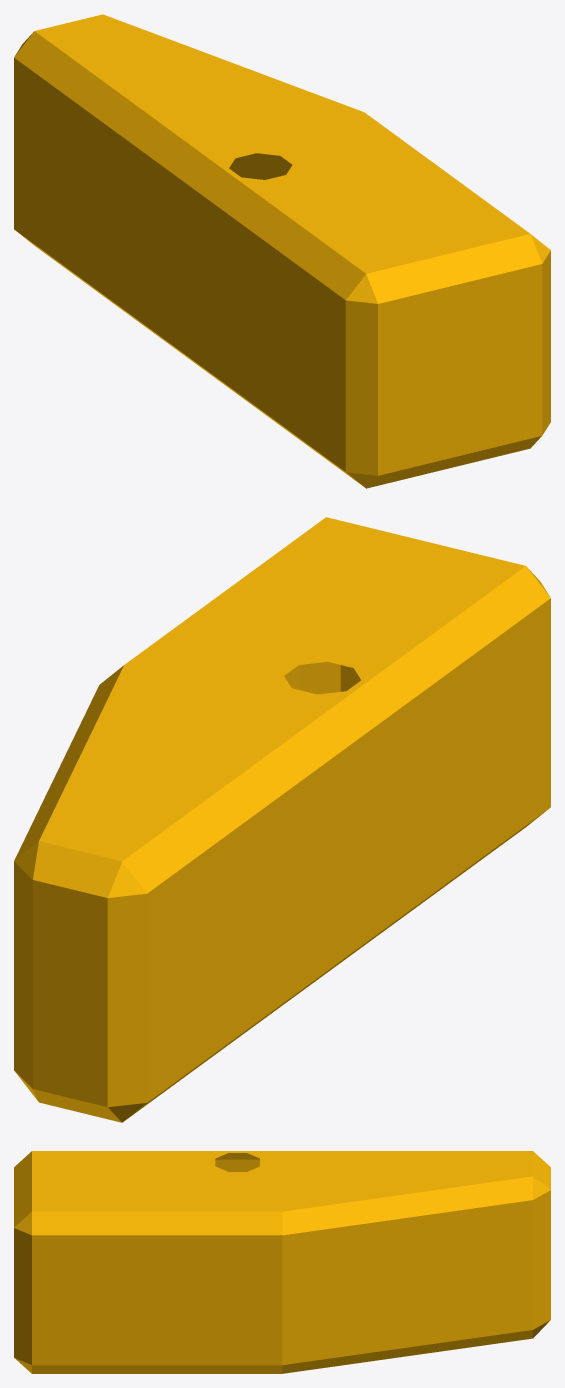
File: fluid_tank_3x2x6.dae
3 views of the same model, one above another, from view 1: azimuth 30°, elevation 25°; view 2: azimuth 150°, elevation 25°; view 3: azimuth 270°, elevation 25° (orthographic). The views are drawn at different scales.
Visible parts, largest first — view 1: Cube; view 2: Cube; view 3: Cube.
Boxes of the visible parts, x1,y1,x2,y2 form: Cube: (14,14,550,488); Cube: (14,517,550,1122); Cube: (14,1151,550,1373).
Bounding box in the file's own units: 0.5 × 1.5 × 0.5.
